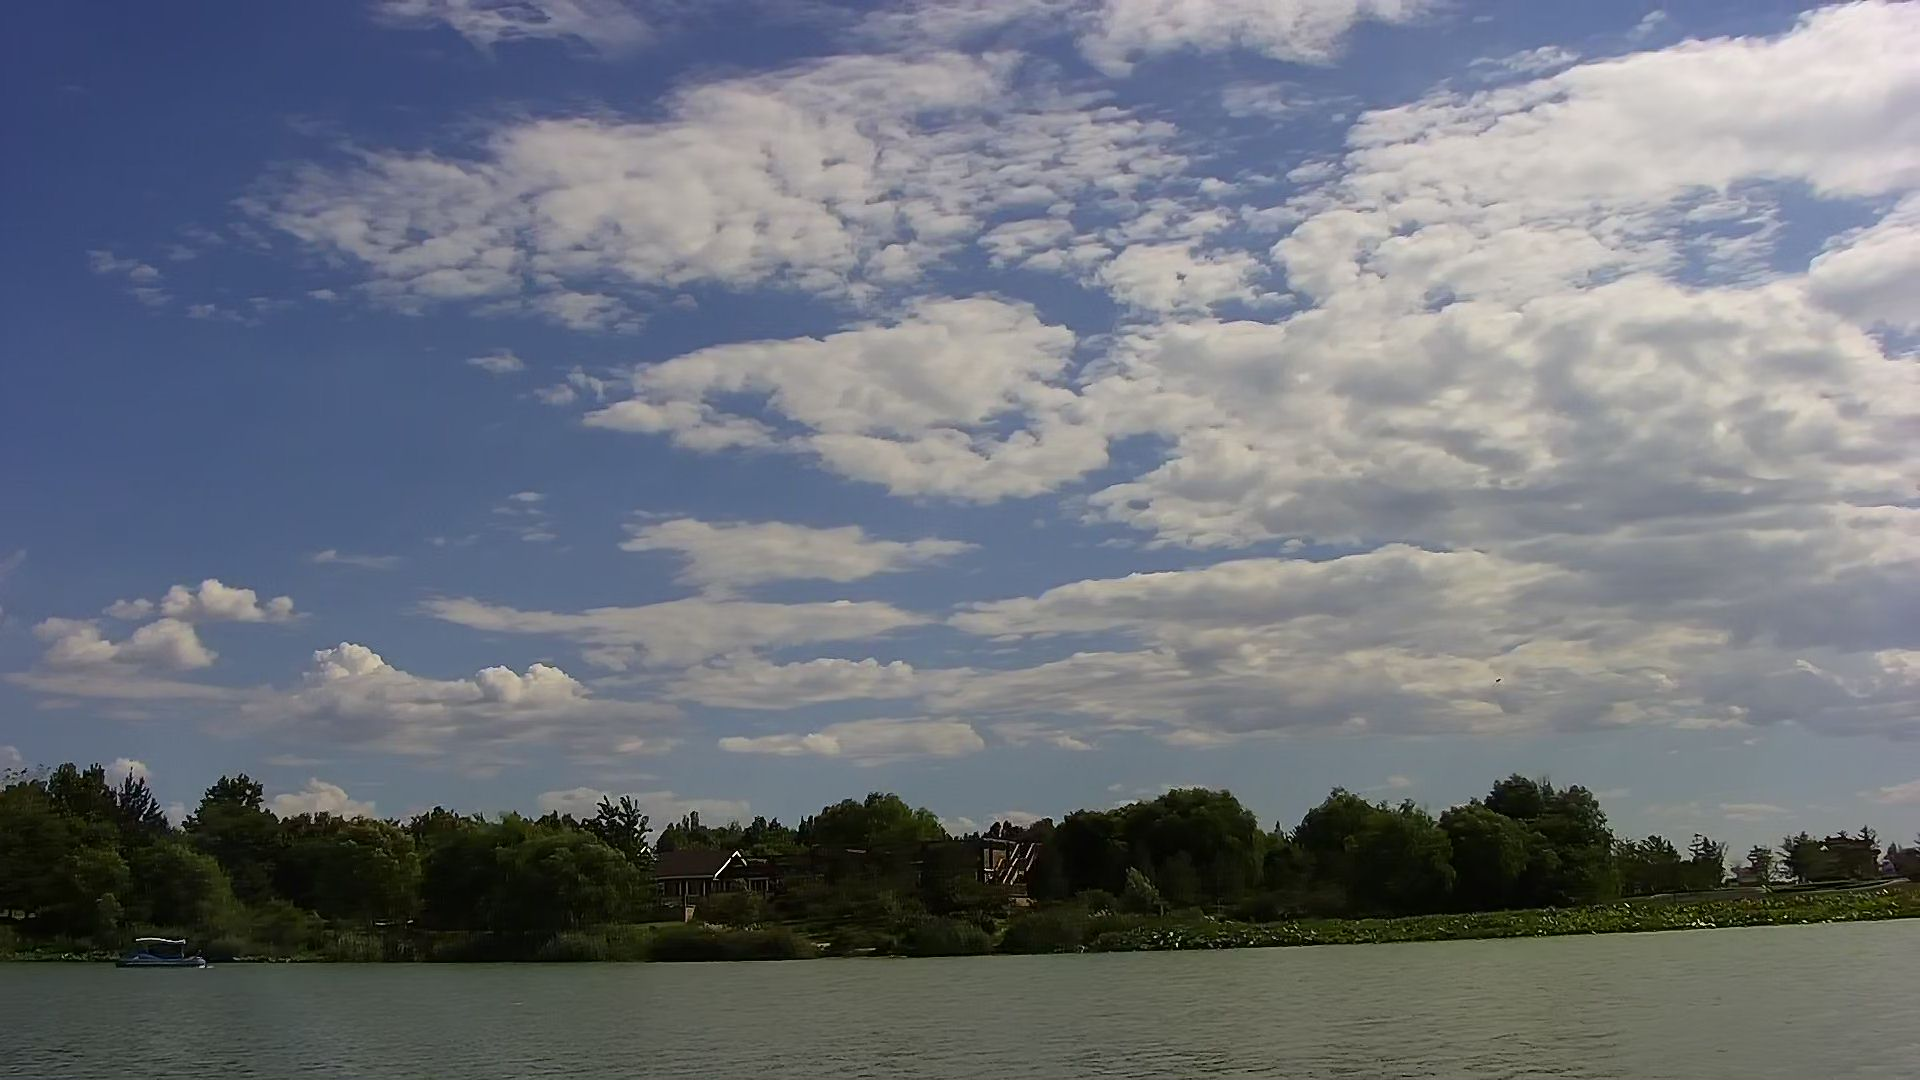boat: (117, 932, 210, 975)
